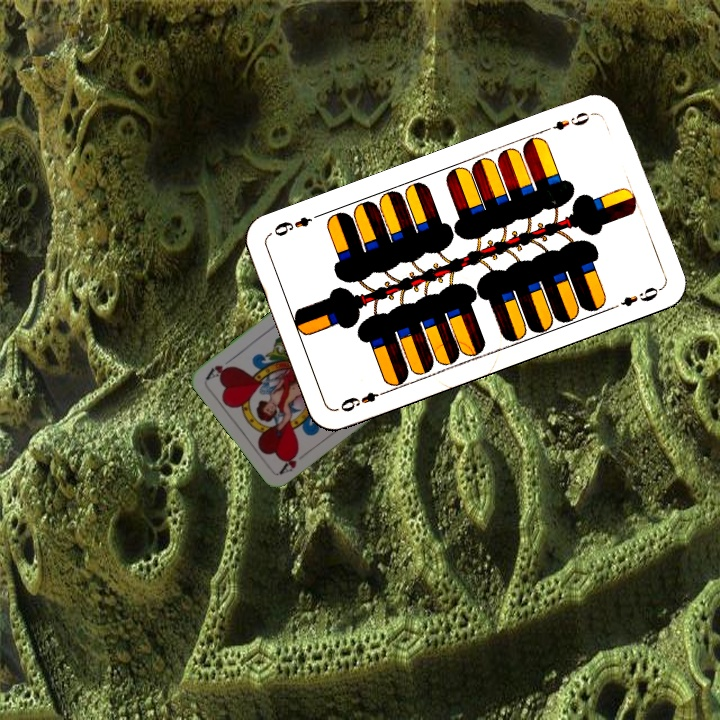E9: (336, 386, 391, 415), (539, 108, 597, 135)
HA: (276, 447, 311, 476)
